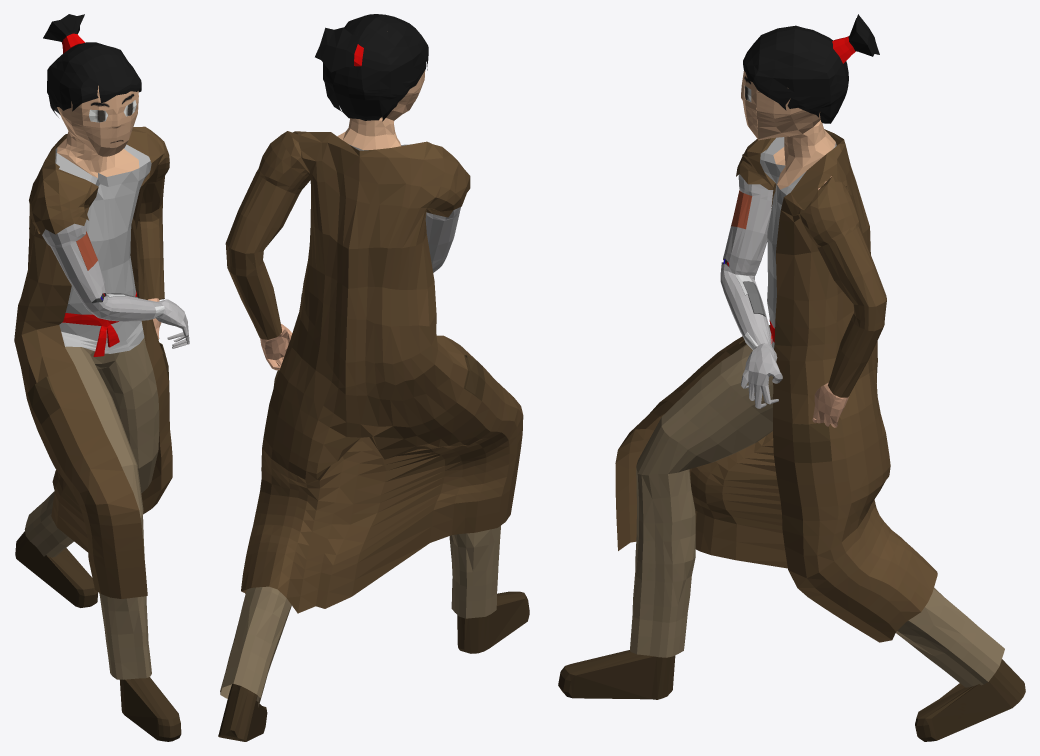
The model's file is One_DB_000011.obj.
The picture shows the model from 3 angles, left to right: view 1: azimuth 30°, elevation 25°; view 2: azimuth 150°, elevation 25°; view 3: azimuth 270°, elevation 25°; orthographic projection. The views are drawn at different scales.
Visible parts, largest first — view 1: Hair_Cube.004; view 2: Hair_Cube.004; view 3: Hair_Cube.004.
Part boxes in pixels (x1,y1,x2,y2): Hair_Cube.004: (14,14,189,741); Hair_Cube.004: (218,14,529,741); Hair_Cube.004: (558,14,1025,741).
Size of the model in its own units: 1.09 by 3.67 by 2.24.
